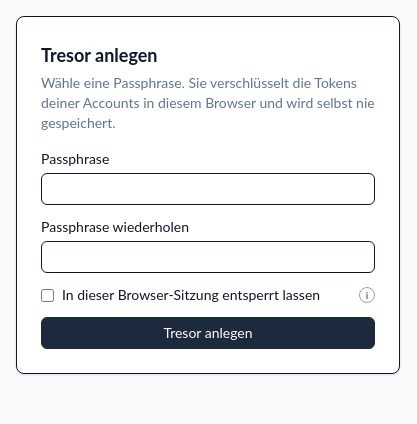
Test: PassphraseGate › refuses two passphrases that differ
Type "long-enough-1" into the password field labelled "Passphrase" at coordinates (208, 189), box [41,173,375,205]
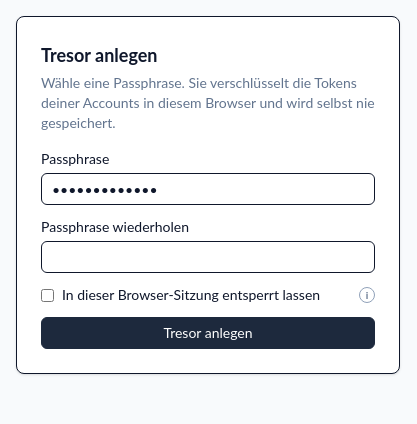
Type "long-enough-2" into the password field labelled "Passphrase wiederholen" at coordinates (208, 257), box [41,241,375,273]
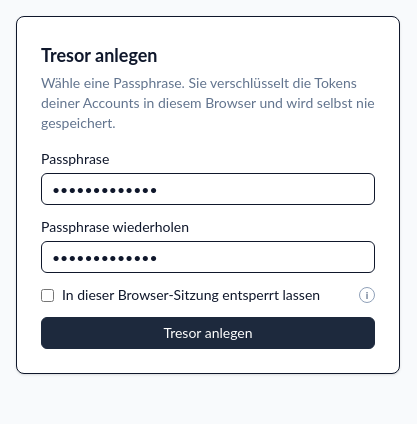
Submit the form, box [41,149,375,349]
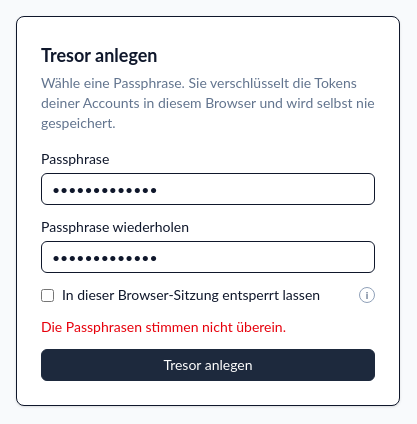
Now the text "Die Passphrasen stimmen nicht überein." is shown, box [41,318,286,335]
